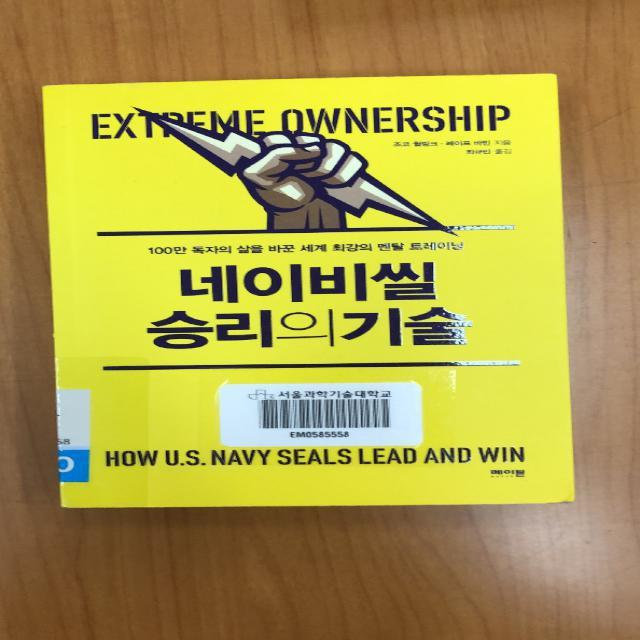Wornout: (525, 493, 581, 506)
